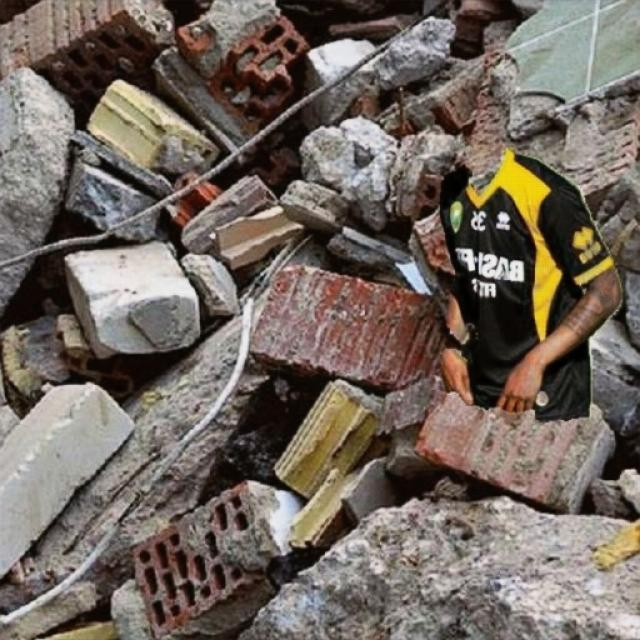Person in Rubble: (438, 148, 622, 422)
